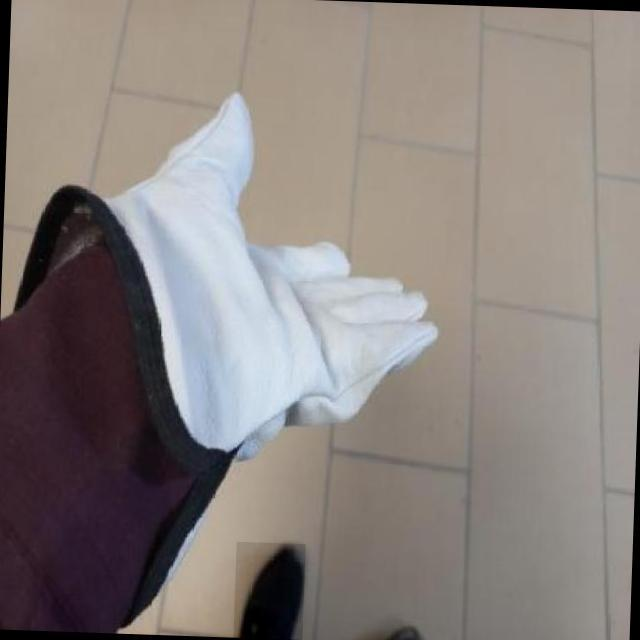Gloves: (37, 70, 464, 477)
Safety Boot: (233, 542, 305, 640)
